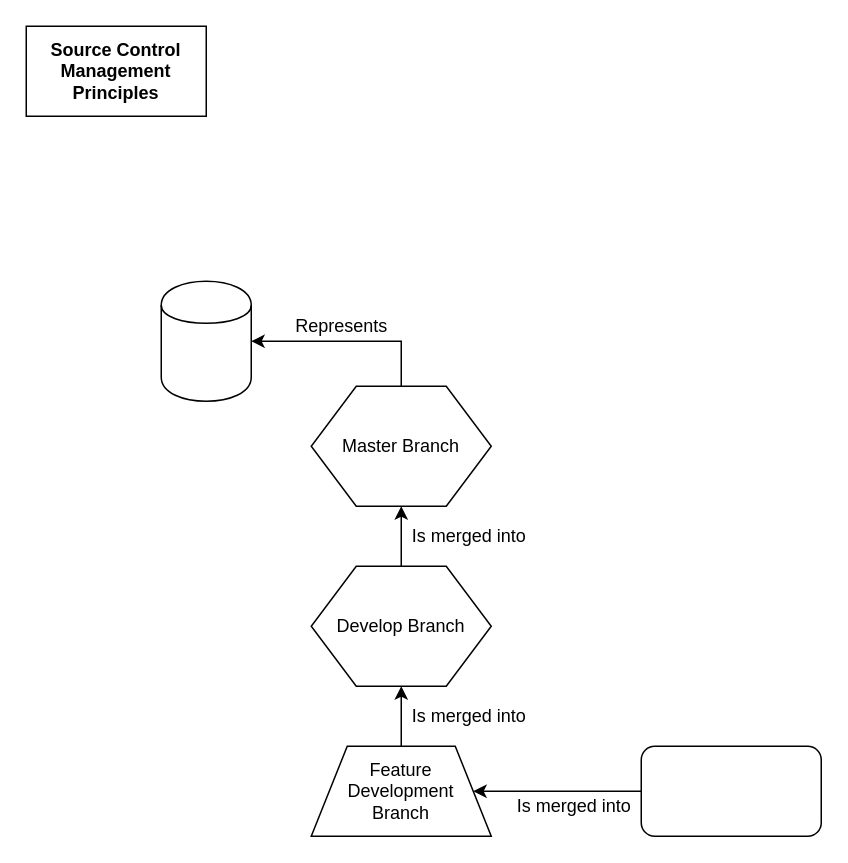
Some shapes in this 848 by 863 pixel diagram are drawn without their labels. Each missing label, with the centre of its shape:
Developer (Leaf) Branch: the point at 730,790
Repository: the point at 205,340
